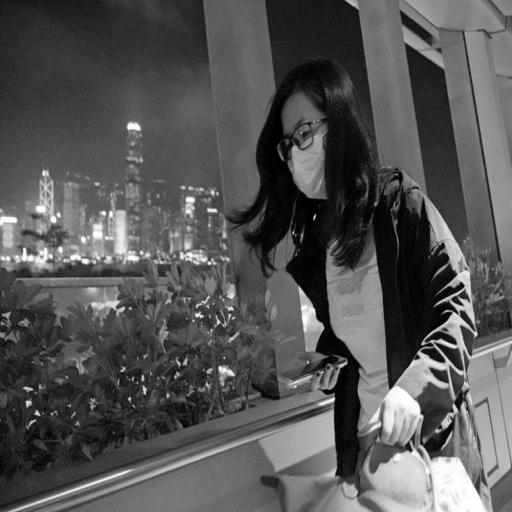mask: (252, 48, 377, 212)
